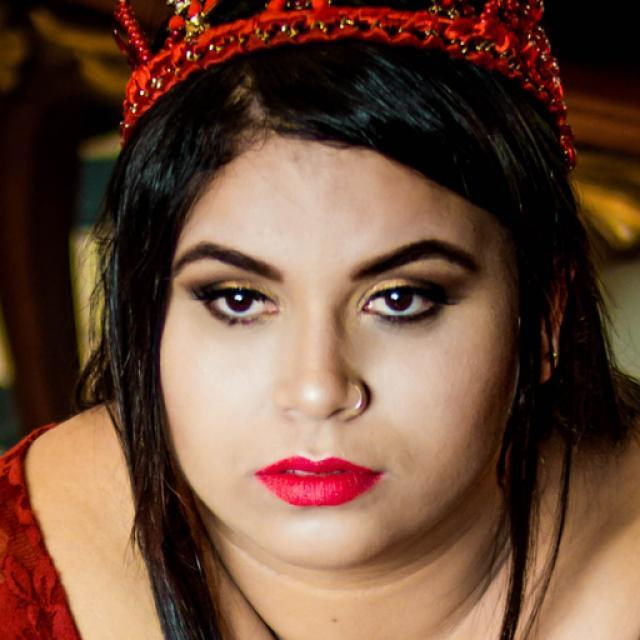neutral: (150, 119, 519, 566)
